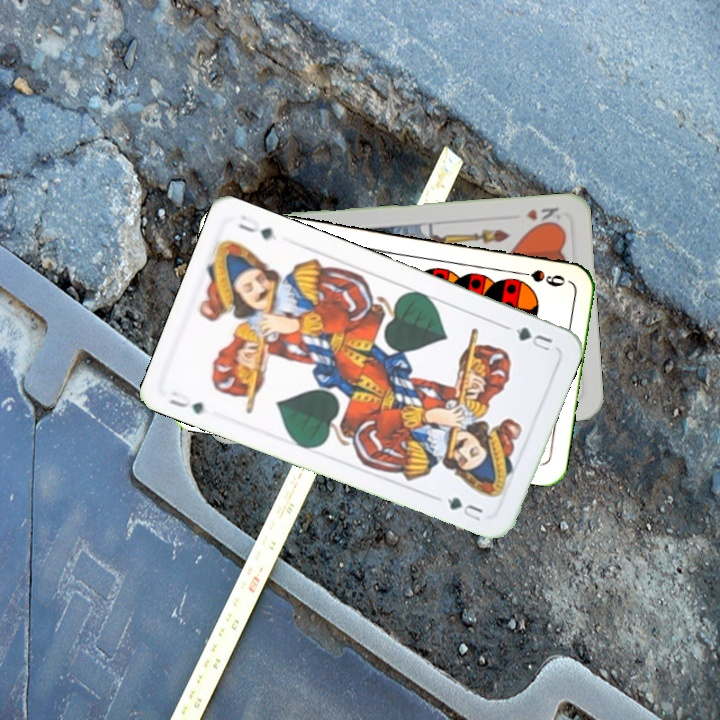GU: (501, 321, 555, 354), (164, 387, 207, 417)
HK: (522, 202, 562, 229)
S9: (511, 265, 568, 289)
